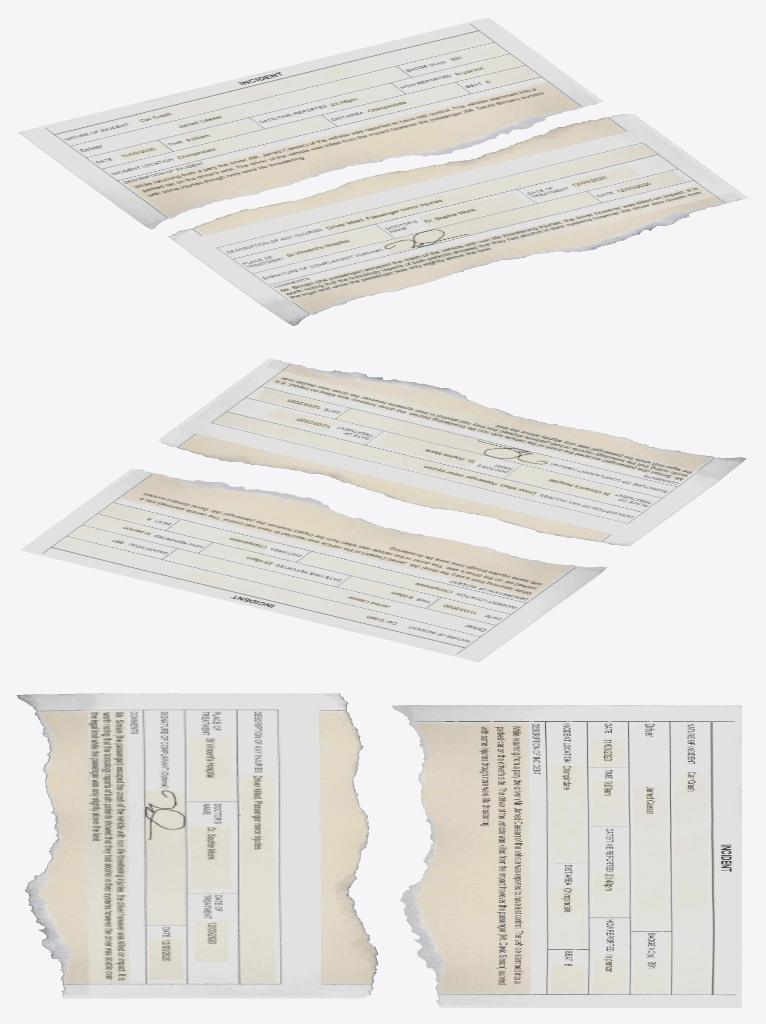
The model's file is Reports.fbx.
3 renders of one model, top to bottom at view 1: azimuth 30°, elevation 25°; view 2: azimuth 150°, elevation 25°; view 3: azimuth 270°, elevation 25°, orthographic. The views are drawn at different scales.
Visible parts, largest first — view 1: pPlane1, pPlane2; view 2: pPlane1, pPlane2; view 3: pPlane1, pPlane2.
Boxes of the visible parts, left/top/right/bottom form: pPlane1: left=18, top=17, right=602, bottom=229; pPlane2: left=168, top=114, right=747, bottom=325; pPlane1: left=20, top=468, right=606, bottom=662; pPlane2: left=158, top=358, right=746, bottom=546; pPlane1: left=392, top=705, right=741, bottom=1007; pPlane2: left=17, top=693, right=378, bottom=998.
Size of the model in its own units: 7.66 by 0.1204 by 7.76.
